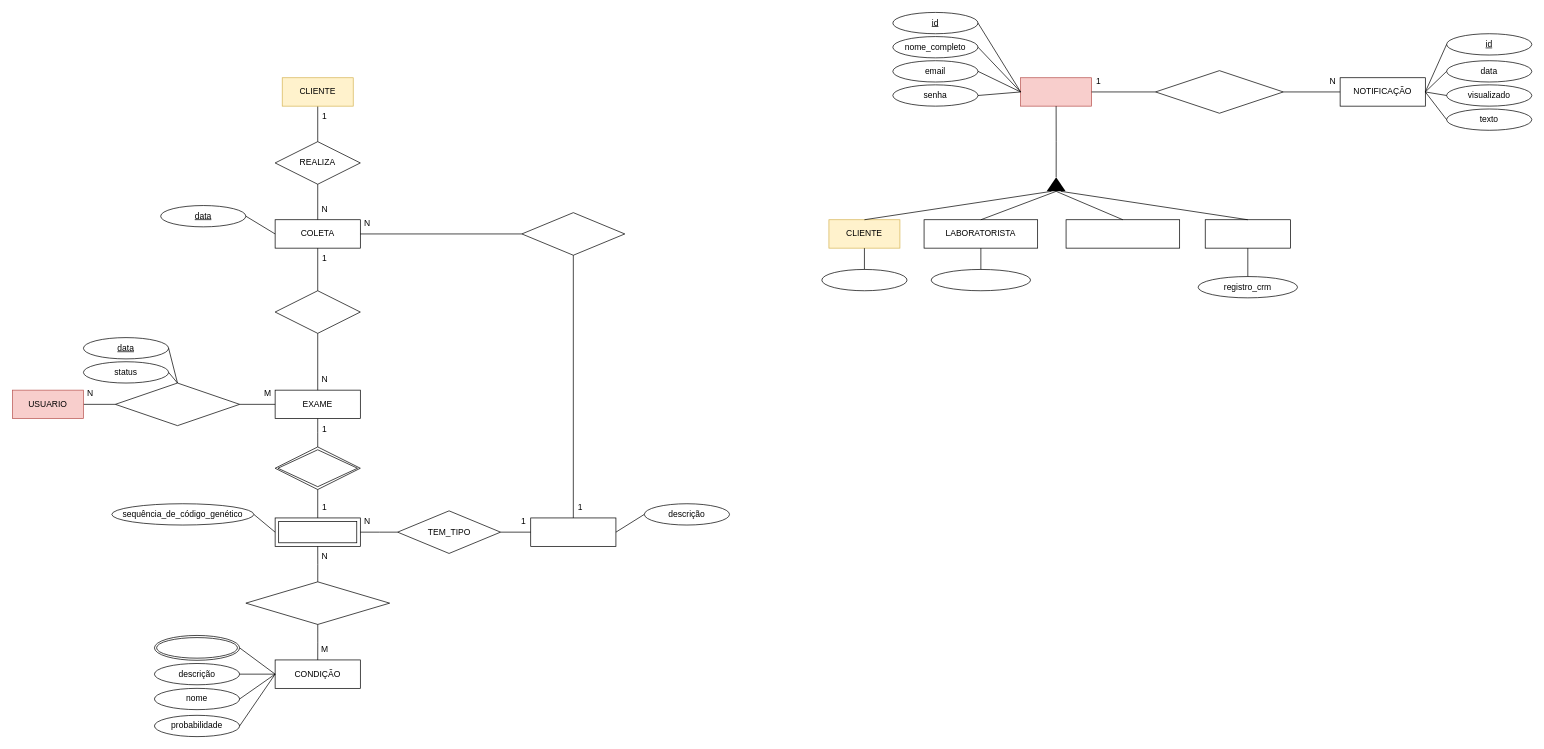
Some shapes in this 1544 by 749 pixel diagram are drawn without their labels. The shapes that lost their labels are listed below. From the top down, each one's centre as x and y in pixels, then its label:
the point at 1056,91: USUÁRIO
the point at 1219,91: TEM_NOTIFICAÇÃO
the point at 573,233: TEM_INDICAÇÃO
the point at 1122,233: ADMINISTRADOR
the point at 1247,233: MÉDICO
the point at 864,280: telefone
the point at 980,280: número_identificador
the point at 317,311: GERA
the point at 177,404: MODIFICA_ESTADO
the point at 317,468: TEM_PAINEL
the point at 317,531: PAINEL
the point at 573,531: TIPO_PAINEL
the point at 317,602: IDENTIFICA_CONDIÇÃO
the point at 197,647: sequência_de_dna
